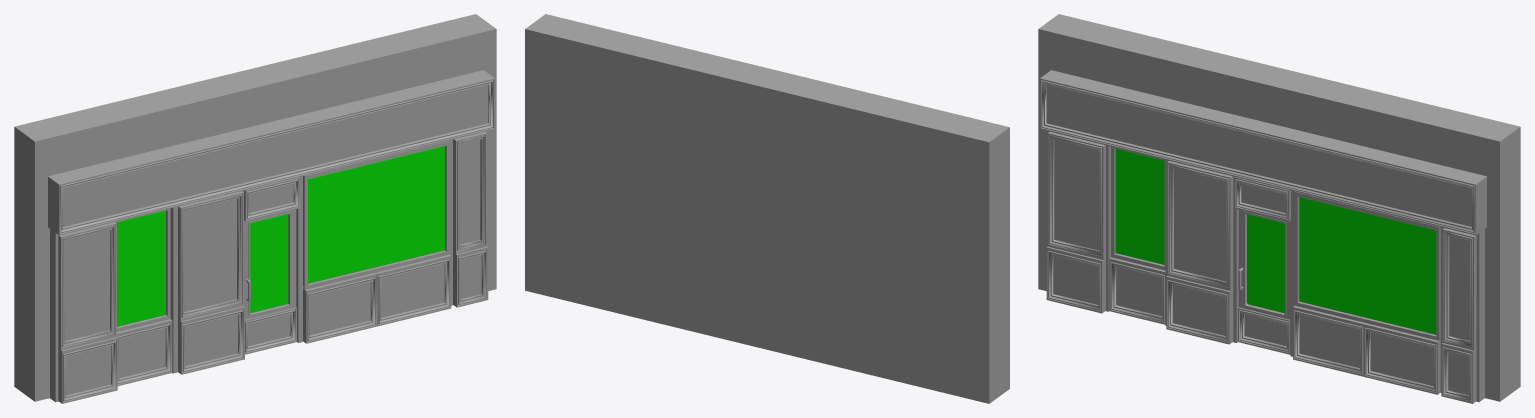
File: SM_Devanture_4_sansparesoleil.fbx
3 views of the same model, side by side, from view 1: azimuth 30°, elevation 25°; view 2: azimuth 150°, elevation 25°; view 3: azimuth 330°, elevation 25° (orthographic).
Parts seen in each view (by area): view 1: pCube59, pCube60, polySurface33, pCube65, pCube61, polySurface25, polySurface29, pCube68, pCube67, pCube69, pCube64, pCube62 (+11 smaller); view 2: pCube59; view 3: pCube59, pCube60, polySurface33, pCube65, pCube61, polySurface25, polySurface29, pCube68, pCube69, pCube67, pCube64, pCube62 (+12 smaller).
Boxes of the visible parts, x1,y1,x2,y2 form: pCube59: [14, 14, 496, 401]; pCube60: [48, 70, 494, 235]; polySurface33: [303, 140, 449, 289]; pCube65: [178, 191, 243, 321]; pCube61: [58, 222, 116, 350]; polySurface25: [116, 209, 170, 331]; polySurface29: [244, 209, 296, 319]; pCube68: [376, 254, 451, 326]; pCube67: [303, 272, 377, 343]; pCube69: [453, 132, 487, 253]; pCube64: [178, 306, 244, 374]; pCube62: [58, 337, 117, 403]; pCube59: [525, 14, 1009, 403]; pCube59: [1038, 14, 1520, 401]; pCube60: [1040, 70, 1486, 235]; polySurface33: [1294, 191, 1440, 340]; pCube65: [1167, 161, 1233, 290]; pCube61: [1047, 132, 1105, 259]; polySurface25: [1111, 147, 1165, 270]; polySurface29: [1238, 209, 1290, 319]; pCube68: [1364, 323, 1440, 394]; pCube69: [1442, 228, 1476, 350]; pCube67: [1293, 305, 1365, 376]; pCube64: [1166, 276, 1233, 344]; pCube62: [1046, 246, 1105, 313].
Size of the model in its own units: 1300 by 700 by 156.
